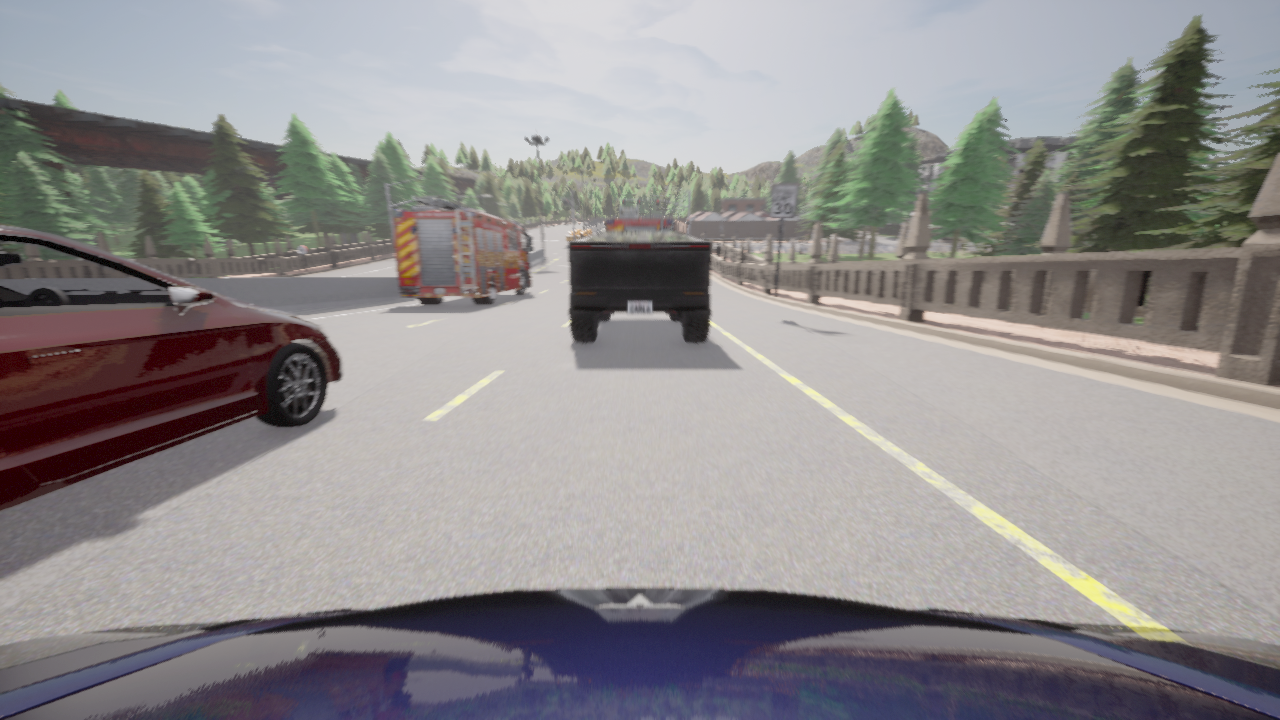cyclist: (0, 588, 1279, 719), (569, 232, 710, 342), (394, 197, 532, 304), (605, 206, 675, 231)
